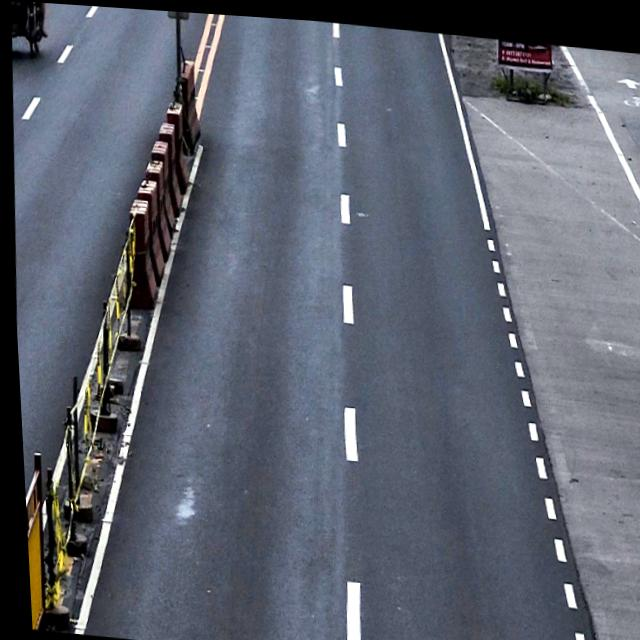Tricycle: (9, 0, 48, 61)
